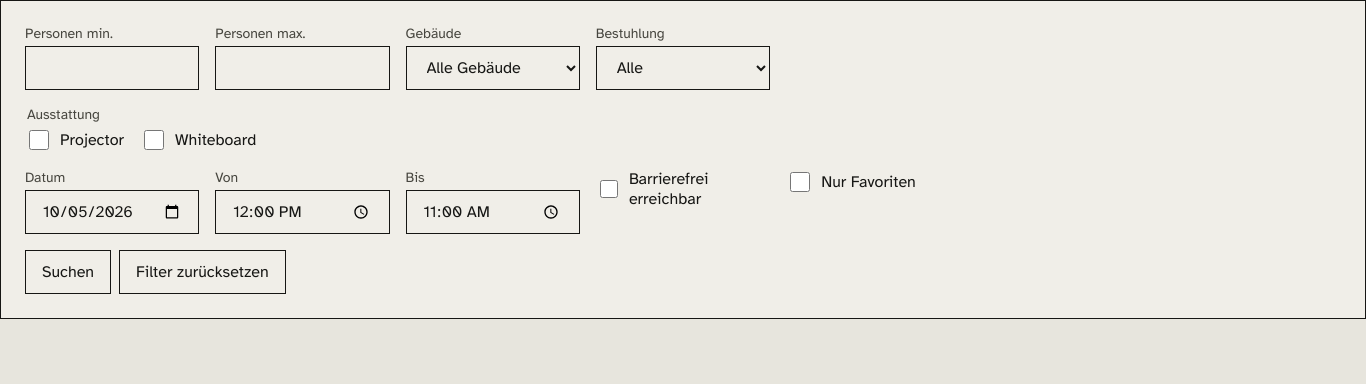
RoomSearchPanel › shows the window errors inline and does not search
The width and height of the screenshot is (1366, 384).
Click the button "Suchen". click: (68, 272)
box: [25,250,111,294]
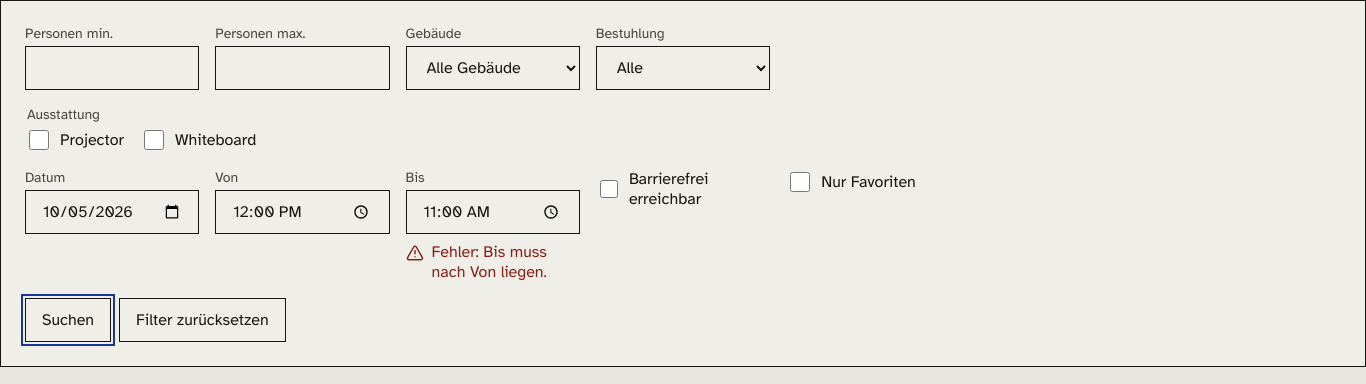
Expected: the text "Bis muss nach Von liegen." shows "Fehler:", [432,242,479,262]
